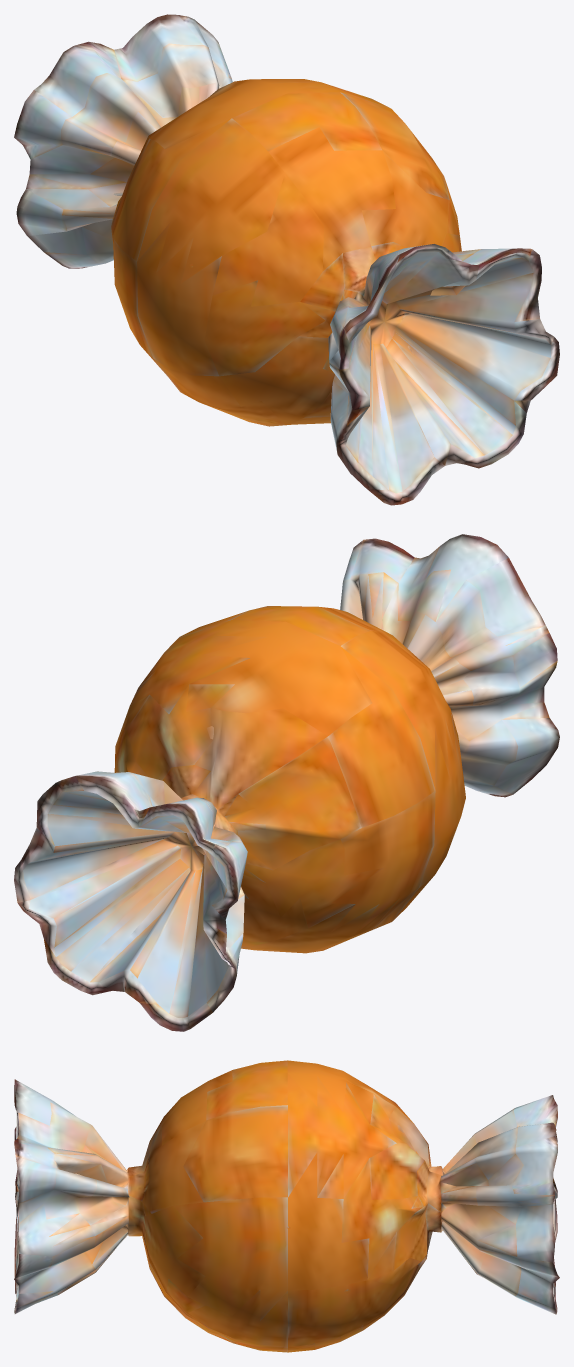
File: item-honeyDrop.glb
3 views of the same model, one above another, from view 1: azimuth 30°, elevation 25°; view 2: azimuth 150°, elevation 25°; view 3: azimuth 270°, elevation 25° (orthographic). The views are drawn at different scales.
Bounding box in the file's own units: 0.5083 × 0.5166 × 0.9609.
1 material, 1 textured.
